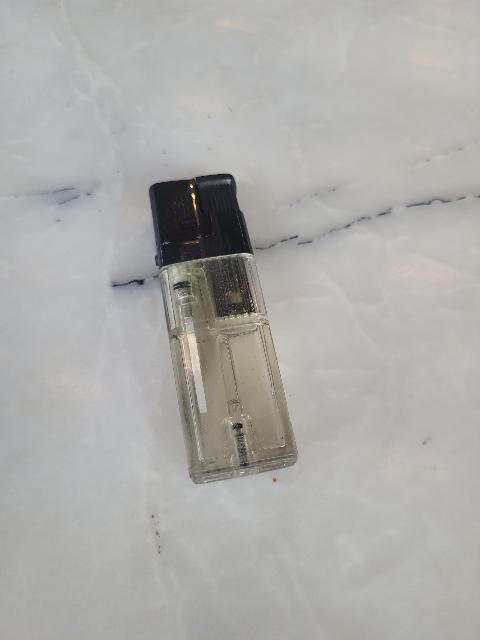Plastik: (145, 171, 312, 483)
